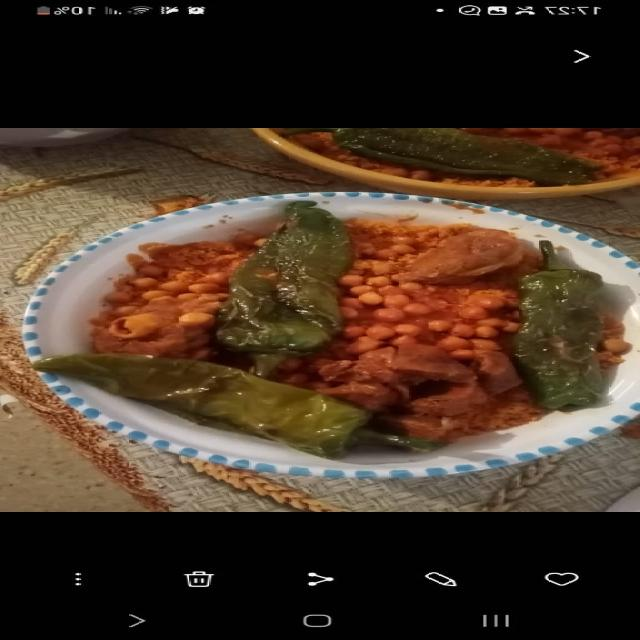Couscous: (35, 186, 640, 468)
